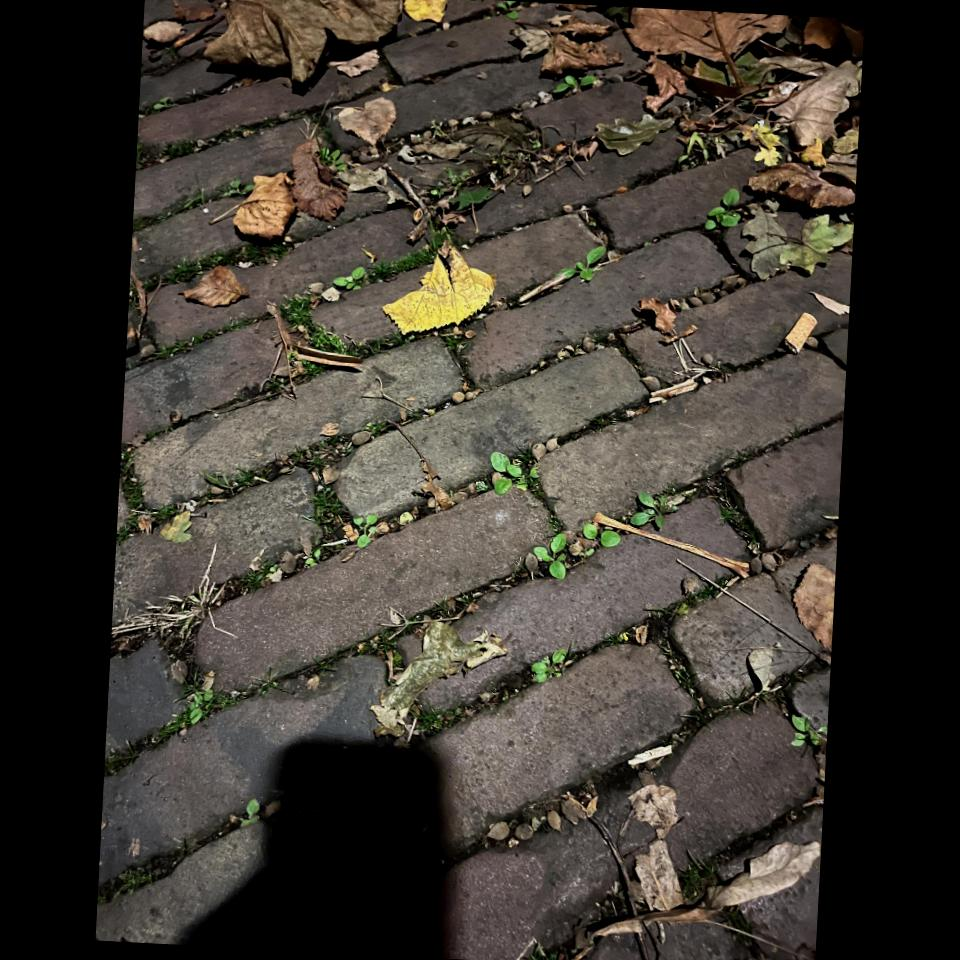weed: (125, 315, 268, 372), (280, 294, 402, 355), (292, 437, 352, 538), (610, 490, 693, 534), (371, 246, 436, 283), (142, 598, 208, 633), (705, 189, 741, 230), (500, 459, 537, 495), (533, 534, 576, 562), (532, 650, 567, 682), (315, 302, 340, 312), (133, 617, 142, 629)
